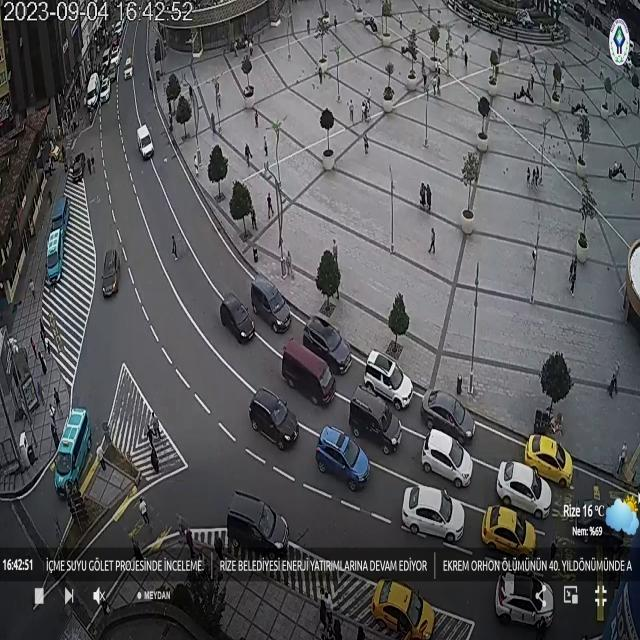Car: (227, 492, 290, 559), (371, 578, 435, 640), (401, 484, 464, 543), (247, 387, 302, 452), (315, 426, 370, 490), (348, 389, 403, 453), (495, 570, 553, 630), (420, 429, 475, 488), (496, 462, 553, 518), (421, 389, 478, 443), (363, 352, 415, 409), (304, 316, 354, 375), (482, 506, 536, 558), (572, 502, 626, 550), (525, 435, 573, 487), (250, 277, 292, 332), (219, 294, 256, 344), (101, 250, 121, 296), (136, 123, 154, 159), (67, 153, 87, 182), (123, 56, 133, 80)
Van: (282, 342, 336, 406), (54, 408, 92, 494), (42, 230, 64, 284), (49, 194, 69, 231), (86, 70, 100, 111)
